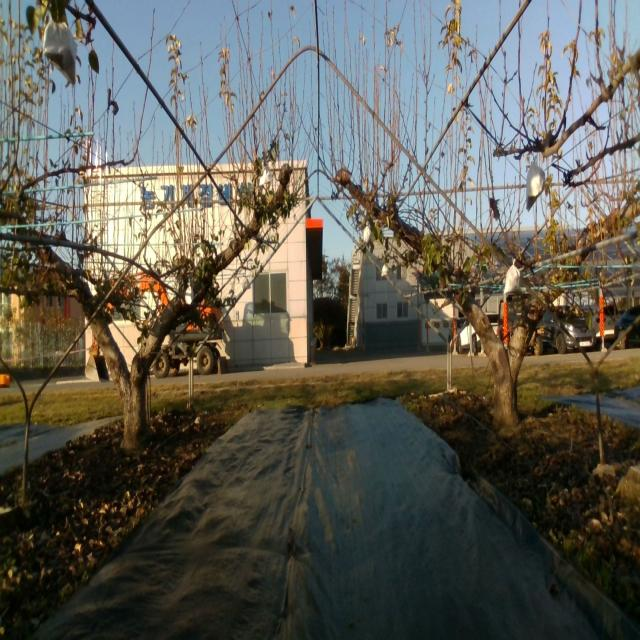pearbags: (43, 18, 77, 85), (526, 161, 545, 211), (504, 258, 520, 294), (258, 163, 274, 186)
